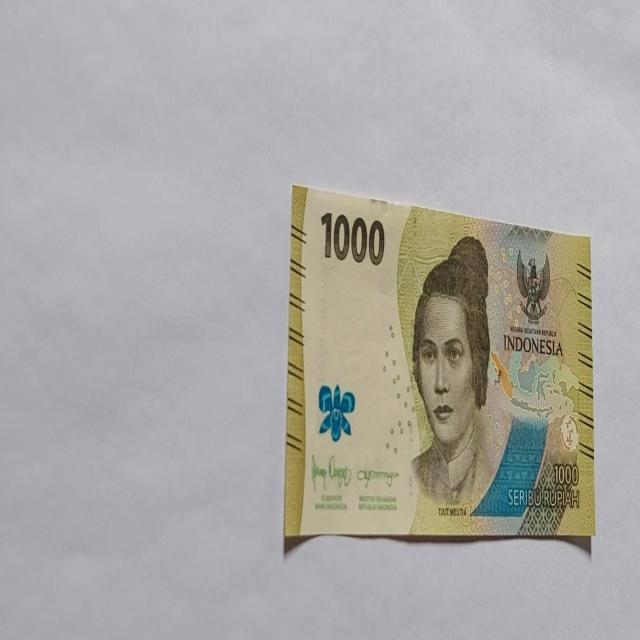seribu rupiah kertas: (284, 182, 594, 543)
